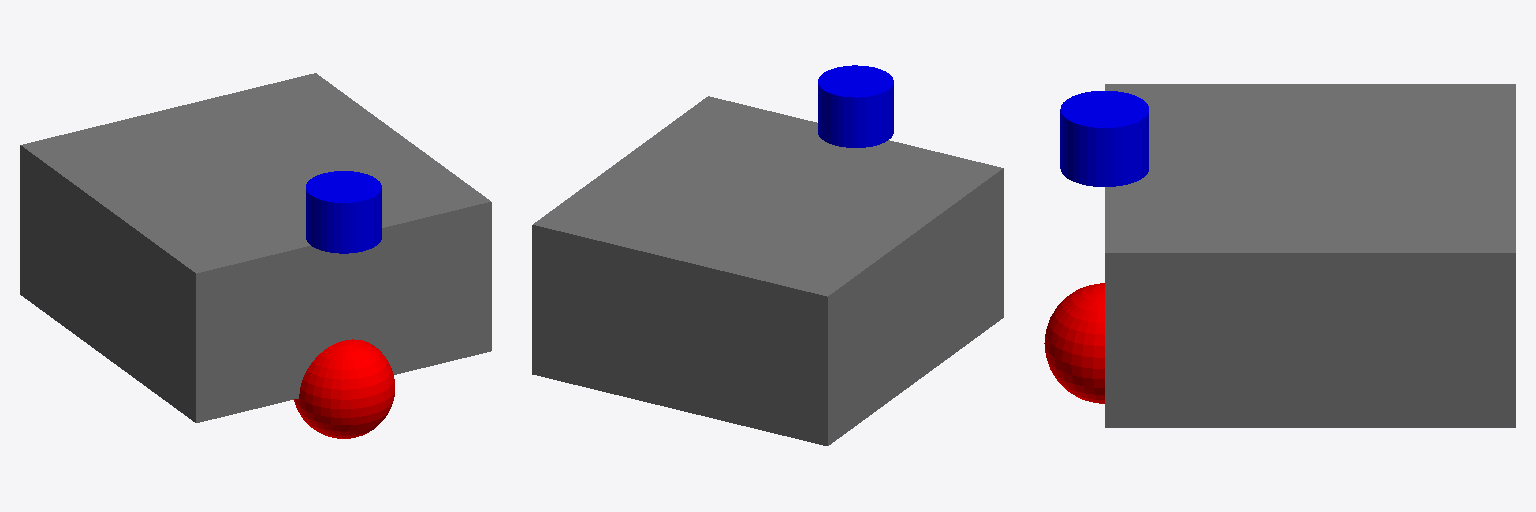
URDF robot description (basic_box_robot):
<robot name="basic_box_robot">

  <!-- 기본 색상 정의 -->
  <material name="gray">
    <color rgba="0.5 0.5 0.5 1"/>
  </material>

  <material name="blue">
    <color rgba="0 0 1 1"/>
  </material>

  <material name="red">
    <color rgba="1 0 0 1"/>
  </material>

  <!-- 원통의 링크 정의 -->
  <link name="cylinder_link">
    <visual>
      <origin xyz="0 0 0" rpy="0 0 0"/>
      <geometry>
        <cylinder radius="0.03685" length="0.054"/>
      </geometry>
      <material name="blue"/>
    </visual>

  </link>

  <!-- base_link 정의 (cylinder_link와 연결) -->
  <link name="base_link">
    <visual>
      <geometry>
        <sphere radius="0.05"/> <!-- base_link를 작은 구로 표현 -->
      </geometry>
      <material name="red"/>
    </visual>
  </link>

  <!-- 박스의 링크 정의 -->
  <link name="box_link">
    <visual>
      <origin xyz="0 0 0" rpy="0 0 0"/>
      <geometry>
        <box size="0.33 0.34 0.16"/>
      </geometry>
      <material name="gray"/>
    </visual>

    <collision>
      <origin xyz="0 0 0" rpy="0 0 0"/>
      <geometry>
        <box size="0.25 0.34 0.16"/>
      </geometry>
    </collision>
  </link>

  <!-- cylinder_link와 base_link를 연결하는 고정 조인트 -->
  <joint name="cylinder_to_base" type="fixed">
    <parent link="base_link"/>
    <child link="cylinder_link"/>
    <origin xyz="0 0 0.187" rpy="0 0 0"/> <!-- cylinder_link와 base_link의 중심 일치 -->
  </joint>

  <!-- cylinder_link와 박스를 연결하는 고정 조인트 -->
  <joint name="cylinder_to_box" type="fixed">
    <parent link="cylinder_link"/>
    <child link="box_link"/>
    <origin xyz="0 0.17 -0.107" rpy="0 0 0"/> <!-- 박스가 cylinder_link 위에 배치 -->
  </joint>

</robot>

--- What the picture shows (computed from the rendered views, not written in the file) ---
The picture shows the robot from 3 angles, left to right: view 1: azimuth 30°, elevation 25°; view 2: azimuth 150°, elevation 25°; view 3: azimuth 270°, elevation 25°; orthographic projection.
Model basic_box_robot with 3 links and 2 joints (2 fixed), rooted at base_link, posed every joint at zero.
Links seen in each view (by area): view 1: box_link, base_link, cylinder_link; view 2: box_link, cylinder_link; view 3: box_link, cylinder_link, base_link.
Link boxes in pixels (box(x1,y1,x2,y2)): box_link: box(20, 73, 491, 422); base_link: box(294, 339, 394, 438); cylinder_link: box(306, 171, 381, 253); box_link: box(532, 96, 1003, 445); cylinder_link: box(818, 65, 893, 147); box_link: box(1105, 84, 1515, 427); cylinder_link: box(1060, 91, 1148, 186); base_link: box(1044, 283, 1104, 403).
Size in the robot's own frame: 0.33 by 0.39 by 0.264 metres.
Geometry: primitives only (box / cylinder / sphere), no mesh files.
